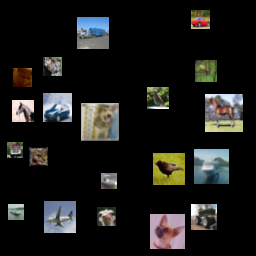airplane: (172, 155, 207, 190), (145, 211, 171, 237), (110, 169, 129, 188), (137, 106, 156, 125)
automobile: (18, 55, 50, 87), (94, 29, 126, 61)
bird: (9, 137, 47, 175), (65, 201, 91, 227), (205, 124, 224, 143)
cat: (143, 140, 162, 159)
deer: (134, 45, 169, 80), (87, 137, 116, 166)
dog: (188, 192, 217, 221), (48, 6, 77, 35)
frog: (207, 42, 245, 80), (101, 89, 136, 124), (183, 7, 215, 39), (62, 106, 91, 135), (53, 143, 79, 169)
